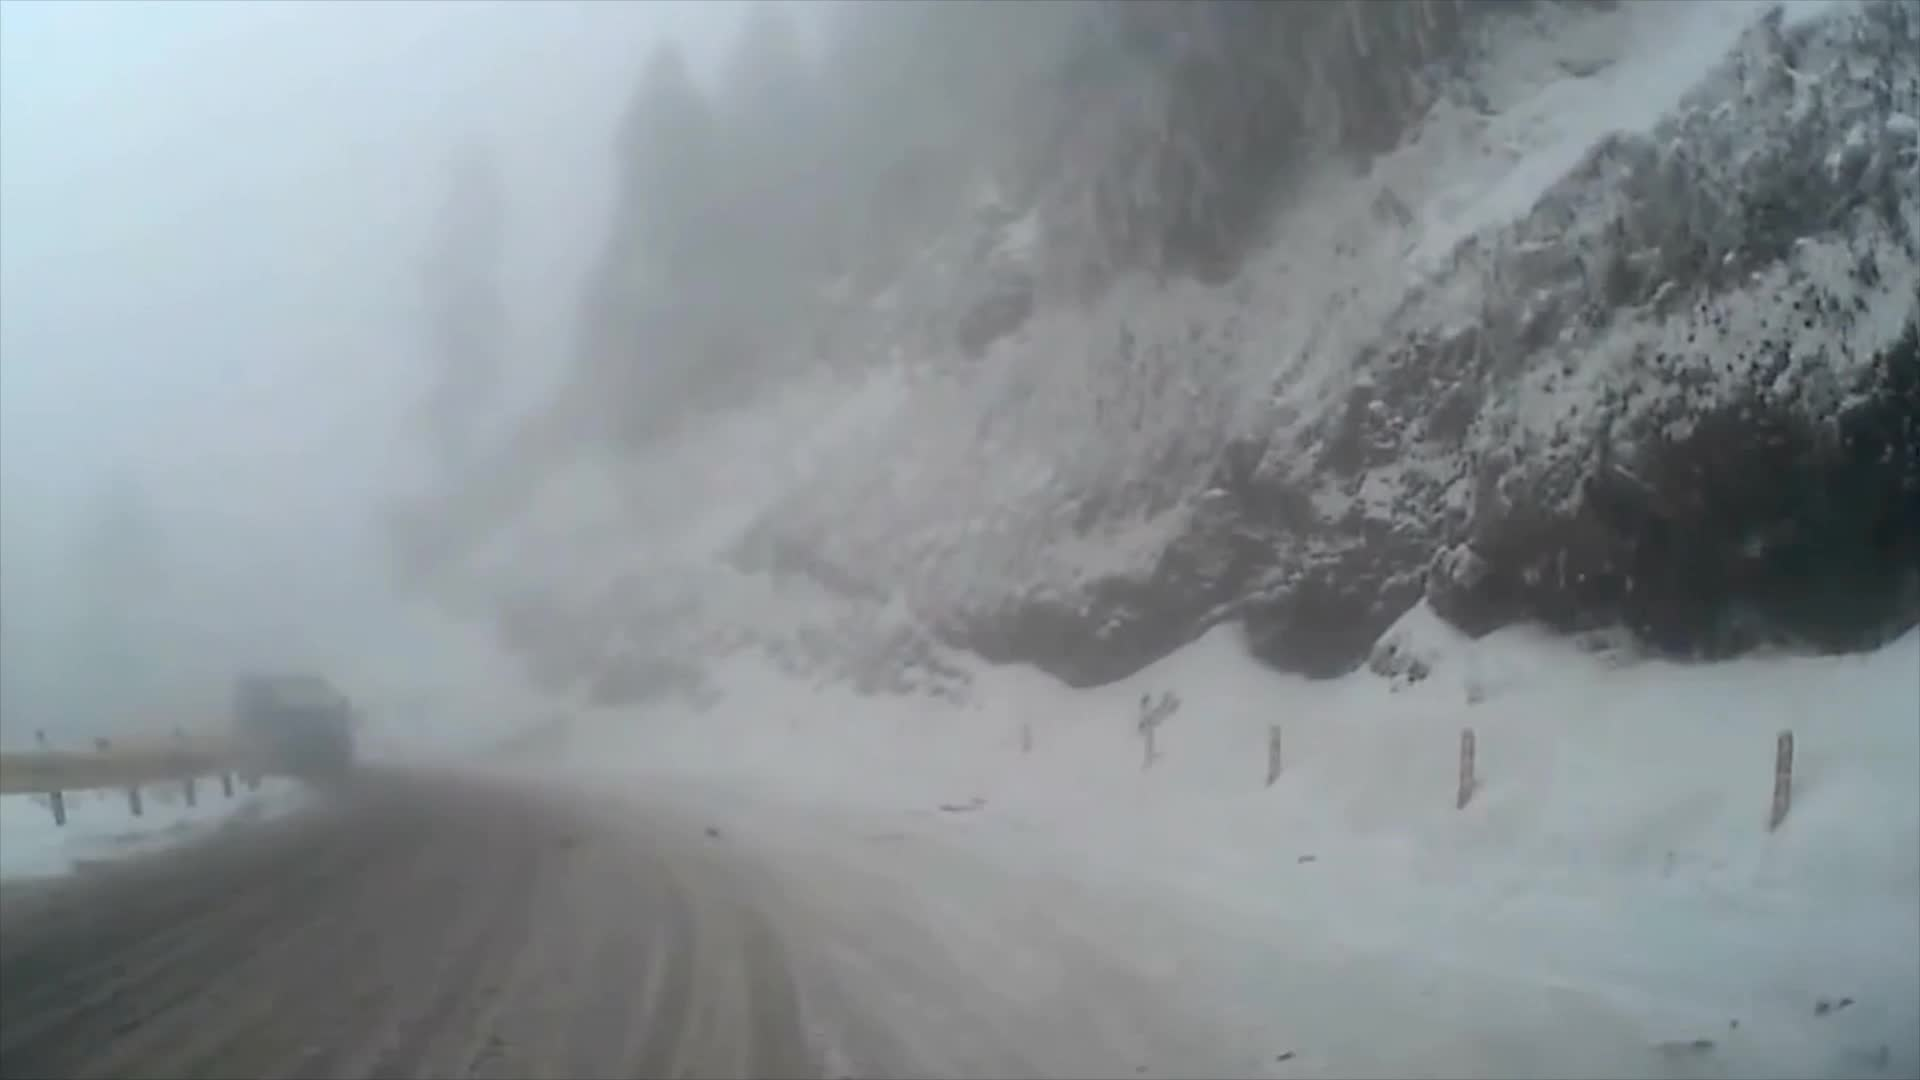vehicle: (233, 667, 355, 773)
